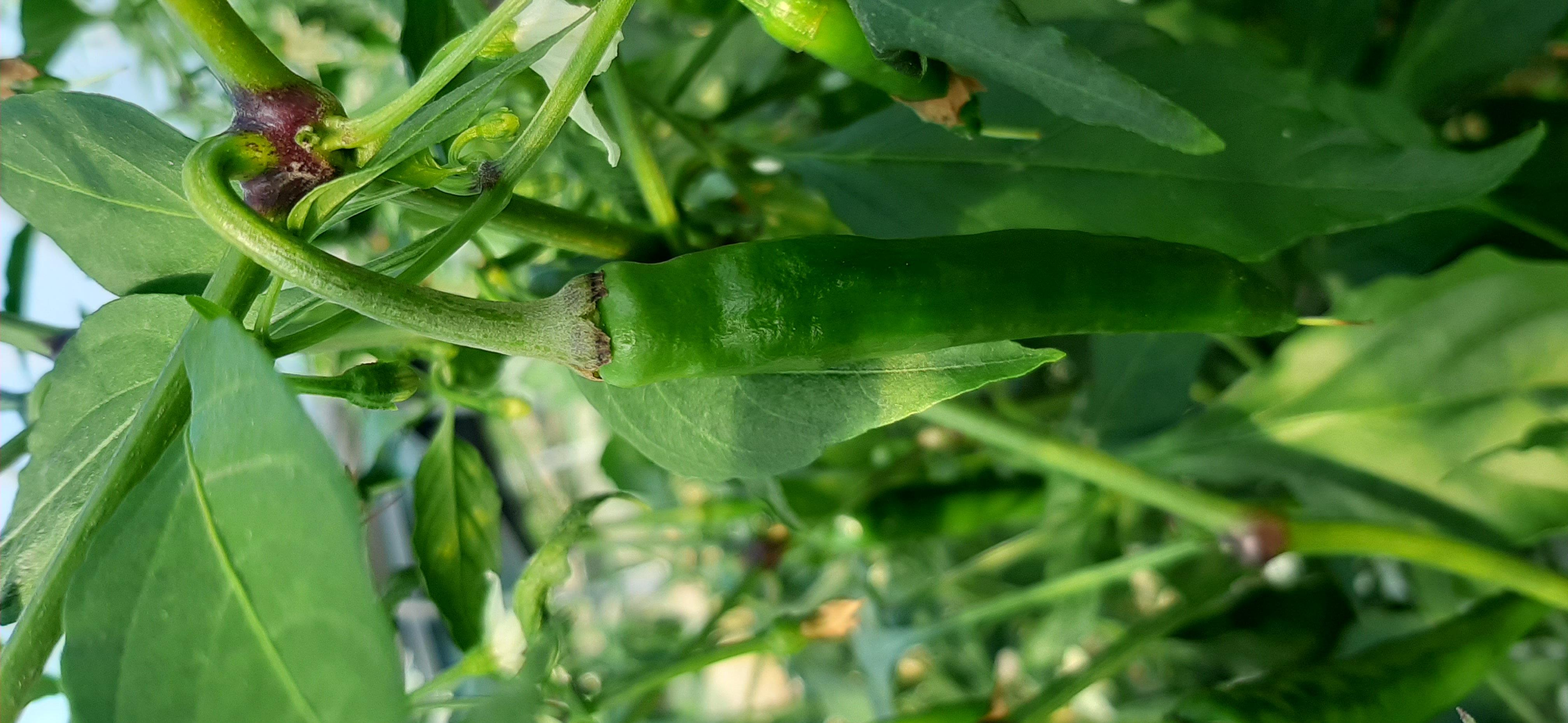Buah Cabai Sehat: (554, 222, 1303, 391)
